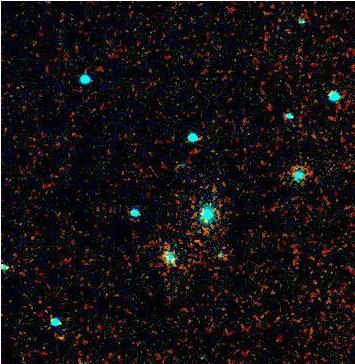star: (45, 321, 75, 351)
